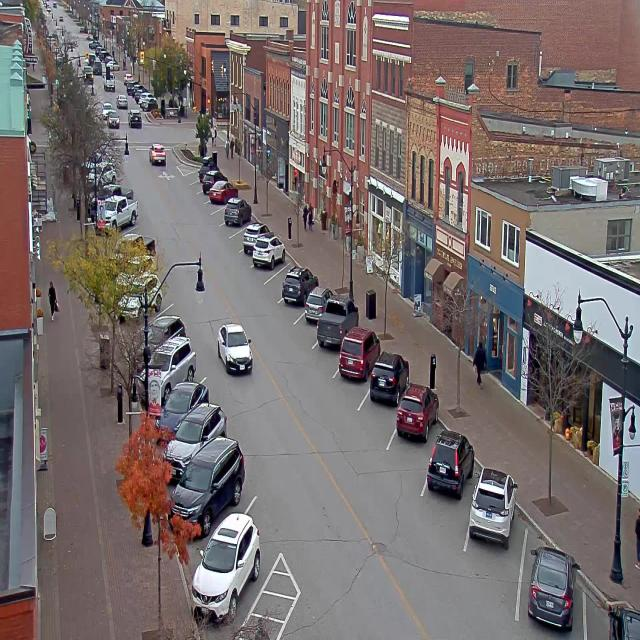available: (263, 252, 293, 292), (228, 223, 247, 246), (210, 203, 225, 226), (185, 168, 197, 185)
occupied: (168, 435, 246, 538), (196, 511, 268, 597), (527, 545, 579, 631), (468, 466, 518, 547), (164, 399, 233, 454), (426, 428, 475, 498), (154, 381, 208, 442), (336, 323, 382, 388), (392, 378, 433, 448), (585, 588, 639, 639), (150, 338, 198, 390), (369, 350, 409, 406), (316, 297, 358, 348), (143, 312, 187, 348), (282, 265, 318, 304), (252, 231, 285, 269), (302, 280, 326, 327), (224, 196, 252, 226), (241, 223, 267, 252), (210, 177, 234, 204), (200, 168, 223, 192), (198, 154, 215, 178)
